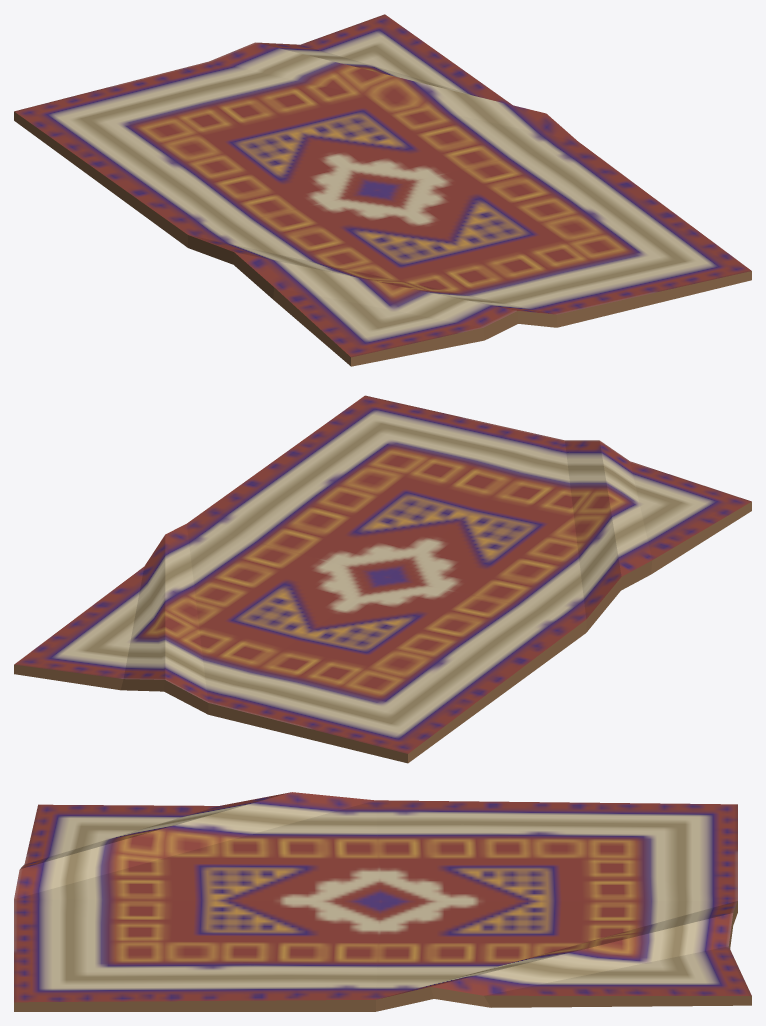
The model's file is SM_Prop_Rug_08.fbx.
The picture shows the model from 3 angles, top to bottom: view 1: azimuth 30°, elevation 25°; view 2: azimuth 150°, elevation 25°; view 3: azimuth 270°, elevation 25°; orthographic projection. The views are drawn at different scales.
Visible parts, largest first — view 1: SM_Prop_Rug_08; view 2: SM_Prop_Rug_08; view 3: SM_Prop_Rug_08.
Part boxes in pixels (x1,y1,x2,y2): SM_Prop_Rug_08: (14,14,751,366); SM_Prop_Rug_08: (14,395,751,763); SM_Prop_Rug_08: (14,792,751,1011).
Size of the model in its own units: 148 by 9.08 by 233.
